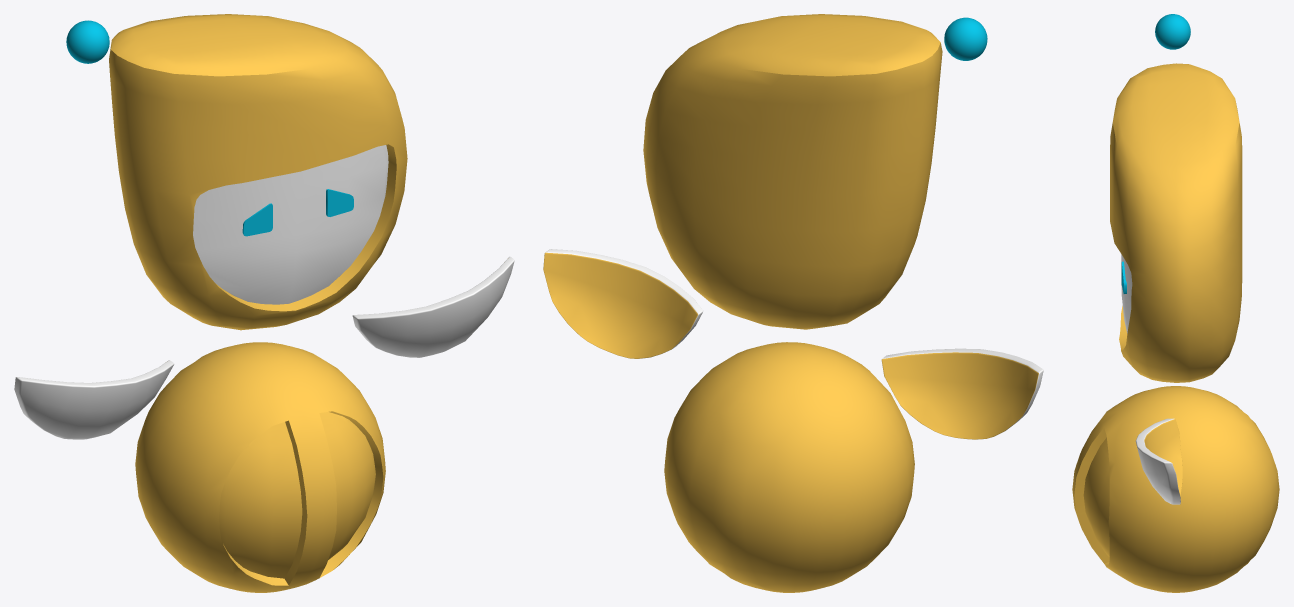
The model's file is GoldenGeoParent.fbx.
3 renders of one model, left to right at view 1: azimuth 30°, elevation 25°; view 2: azimuth 150°, elevation 25°; view 3: azimuth 270°, elevation 25°, orthographic. The views are drawn at different scales.
Visible parts, largest first — view 1: Low Poly.003, Sphere.027, Sphere.028, Sphere.029, Plane.022; view 2: Low Poly.003, Sphere.027, Sphere.028, Sphere.029; view 3: Low Poly.003, Sphere.027, Sphere.028, Sphere.029.
Boxes of the visible parts, x1=… form: Low Poly.003: x1=109, y1=14, x2=407, y2=330; Sphere.027: x1=135, y1=342, x2=385, y2=592; Sphere.028: x1=14, y1=256, x2=514, y2=439; Sphere.029: x1=66, y1=20, x2=109, y2=63; Plane.022: x1=242, y1=189, x2=353, y2=236; Low Poly.003: x1=643, y1=14, x2=942, y2=329; Sphere.027: x1=664, y1=342, x2=914, y2=592; Sphere.028: x1=543, y1=249, x2=1043, y2=439; Sphere.029: x1=944, y1=17, x2=987, y2=60; Low Poly.003: x1=1110, y1=63, x2=1242, y2=382; Sphere.027: x1=1072, y1=386, x2=1279, y2=592; Sphere.028: x1=1135, y1=418, x2=1182, y2=504; Sphere.029: x1=1155, y1=14, x2=1190, y2=49.
Bounding box in the file's own units: 455 × 530 × 200.
